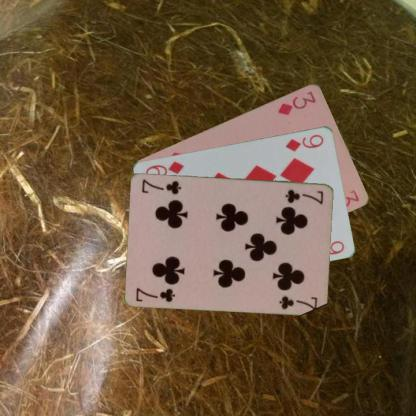3d: (275, 88, 317, 116)
7c: (282, 186, 324, 206), (133, 285, 177, 303)
9d: (282, 131, 326, 153)
